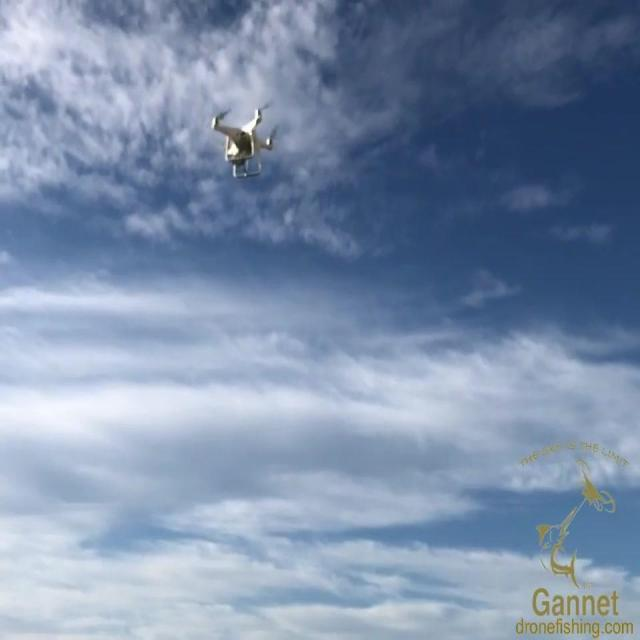UAV: (211, 99, 280, 178)
